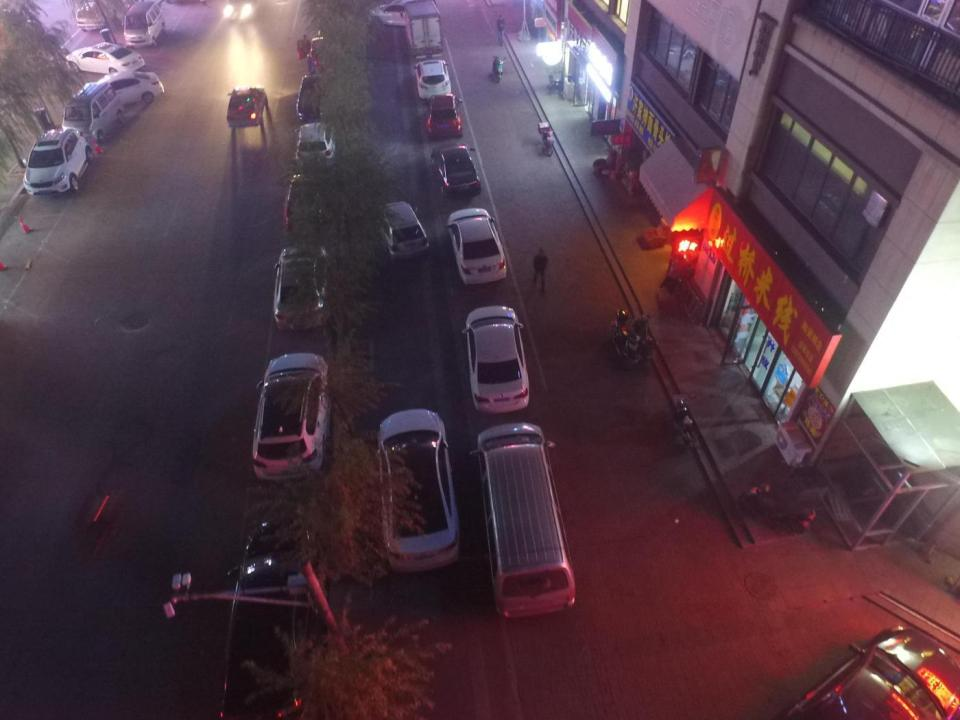car: (222, 519, 326, 719), (771, 626, 960, 719), (376, 409, 459, 573), (252, 352, 331, 481), (462, 306, 528, 413), (273, 245, 331, 328), (23, 127, 93, 195), (448, 207, 506, 284), (73, 70, 164, 110), (376, 202, 428, 262), (431, 142, 481, 196), (284, 173, 328, 232), (66, 42, 144, 75), (425, 93, 463, 140), (226, 87, 268, 129), (293, 122, 334, 165), (366, 1, 430, 28), (297, 75, 331, 121), (414, 60, 452, 100), (297, 37, 341, 68), (76, 1, 118, 31)
truck: (401, 0, 442, 59)
van: (470, 422, 575, 616), (63, 82, 124, 143), (123, 1, 166, 49)
